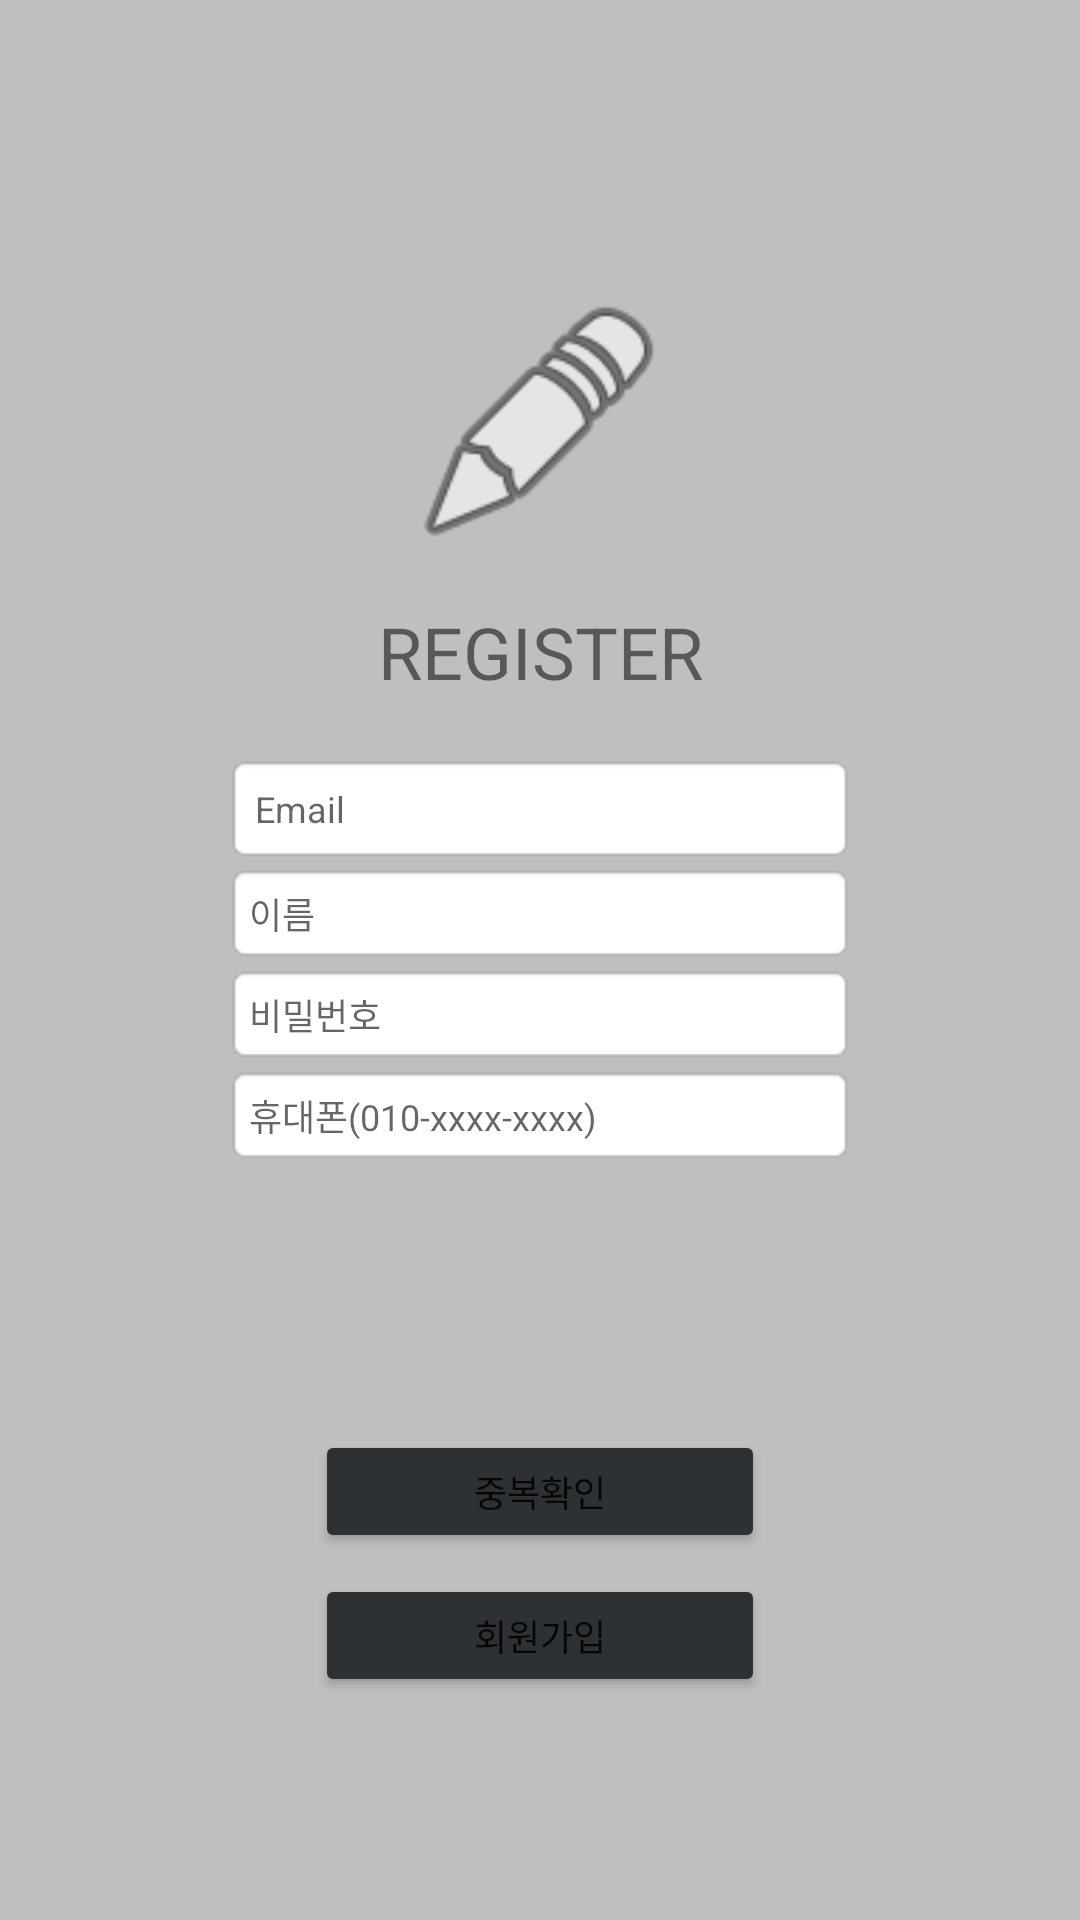

Icon bounding boxes for this 1080×1920 phone screenshot, format (x1, y1, x2, y2):
edit: (425, 307, 653, 536)
